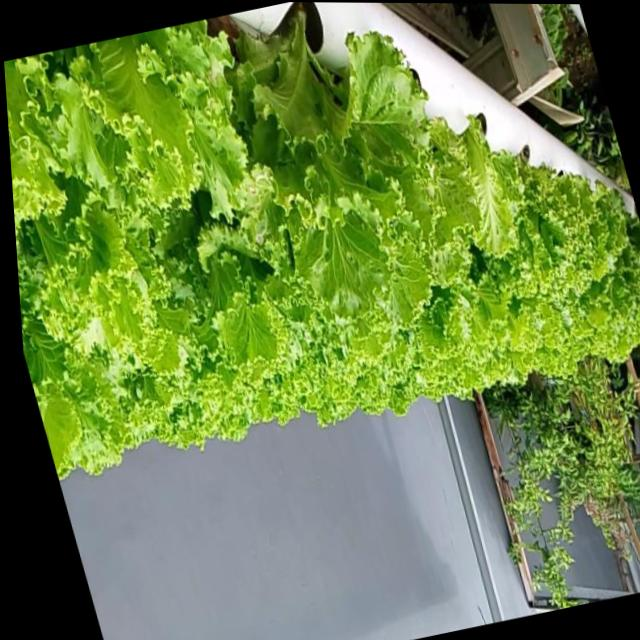Mature: (223, 2, 477, 323), (485, 150, 607, 306)
